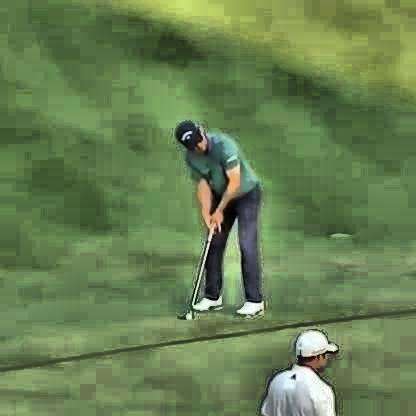golfball: (181, 313, 191, 318)
